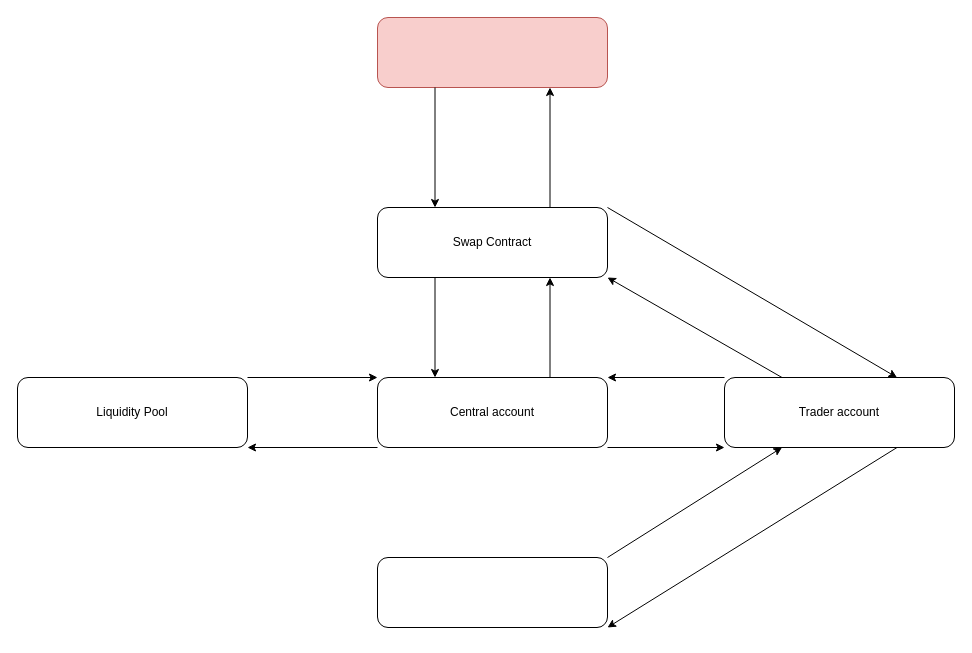
The diagram is 972 pixels wide and 653 high, and some of its shapes have lost their labels. Here are the shapes that lost their labels. From the top down, the centre of each, then its label:
[492,52]: Uniswap
[492,592]: Risk manager
